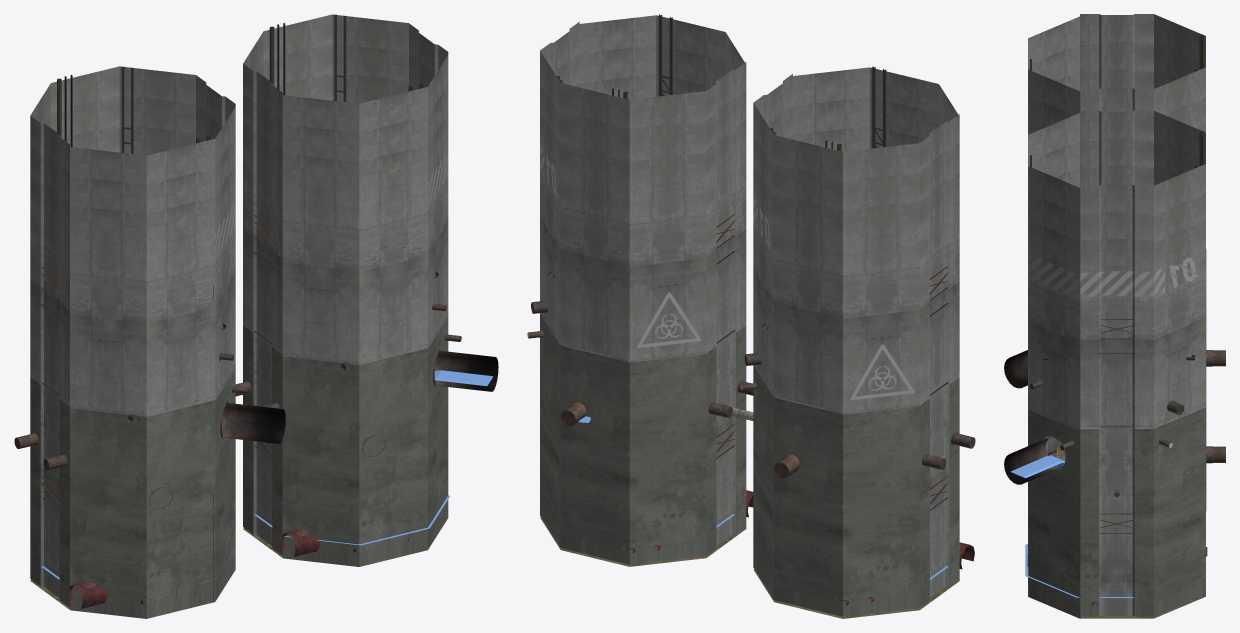
The picture shows the model from 3 angles, left to right: view 1: azimuth 30°, elevation 25°; view 2: azimuth 150°, elevation 25°; view 3: azimuth 270°, elevation 25°; orthographic projection. The views are drawn at different scales.
Visible parts, largest first — view 1: 2S_P_Wall002, 2S_P_Wall, 2S_P_Wall_B (×2), 2S_P_WallPipe (×2), 2S_P_WallPipe002, 2S_P_Pipe, 2S_P_Pipe004, 2S_P_WallFrame; view 2: 2S_P_Wall_B (×2), 2S_P_Wall, 2S_P_Wall002, 2S_P_WallPipe, 2S_P_WallPipe001, 2S_P_Ladder, 2S_P_Ladder001, 2S_P_Floor001, 2S_P_Floor; view 3: 2S_P_Wall_B (×2), 2S_P_Wall002, 2S_P_Wall, 2S_P_WallPipe002, 2S_P_WallPipe, 2S_P_WallFrame001, 2S_Water003, 2S_P_WallPipe001, 2S_P_Floor001.
Part boxes in pixels (left/top/right/bottom): 2S_P_Wall002: left=282, top=55, right=448, bottom=566; 2S_P_Wall: left=70, top=107, right=235, bottom=618; 2S_P_Wall_B (×2): left=30, top=14, right=448, bottom=607; 2S_P_WallPipe (×2): left=14, top=353, right=285, bottom=470; 2S_P_WallPipe002: left=433, top=349, right=498, bottom=391; 2S_P_Pipe: left=69, top=487, right=196, bottom=608; 2S_P_Pipe004: left=281, top=435, right=409, bottom=556; 2S_P_WallFrame: left=35, top=251, right=235, bottom=599; 2S_P_Wall_B (×2): left=540, top=21, right=959, bottom=616; 2S_P_Wall: left=793, top=67, right=959, bottom=580; 2S_P_Wall002: left=579, top=15, right=746, bottom=528; 2S_P_WallPipe: left=741, top=352, right=975, bottom=469; 2S_P_WallPipe001: left=527, top=300, right=753, bottom=418; 2S_P_Ladder: left=872, top=66, right=886, bottom=148; 2S_P_Ladder001: left=659, top=14, right=672, bottom=96; 2S_P_Floor001: left=540, top=517, right=745, bottom=566; 2S_P_Floor: left=753, top=569, right=959, bottom=618; 2S_P_Wall_B (×2): left=1080, top=14, right=1206, bottom=616; 2S_P_Wall002: left=1028, top=113, right=1080, bottom=618; 2S_P_Wall: left=1028, top=16, right=1080, bottom=134; 2S_P_WallPipe002: left=1004, top=436, right=1225, bottom=484; 2S_P_WallPipe: left=1004, top=350, right=1225, bottom=388; 2S_P_WallFrame001: left=1028, top=288, right=1134, bottom=533; 2S_Water003: left=1010, top=455, right=1064, bottom=478; 2S_P_WallPipe001: left=1030, top=380, right=1184, bottom=450; 2S_P_Floor001: left=1028, top=587, right=1205, bottom=618.
Bounding box in the file's own units: 693 × 745 × 342.
